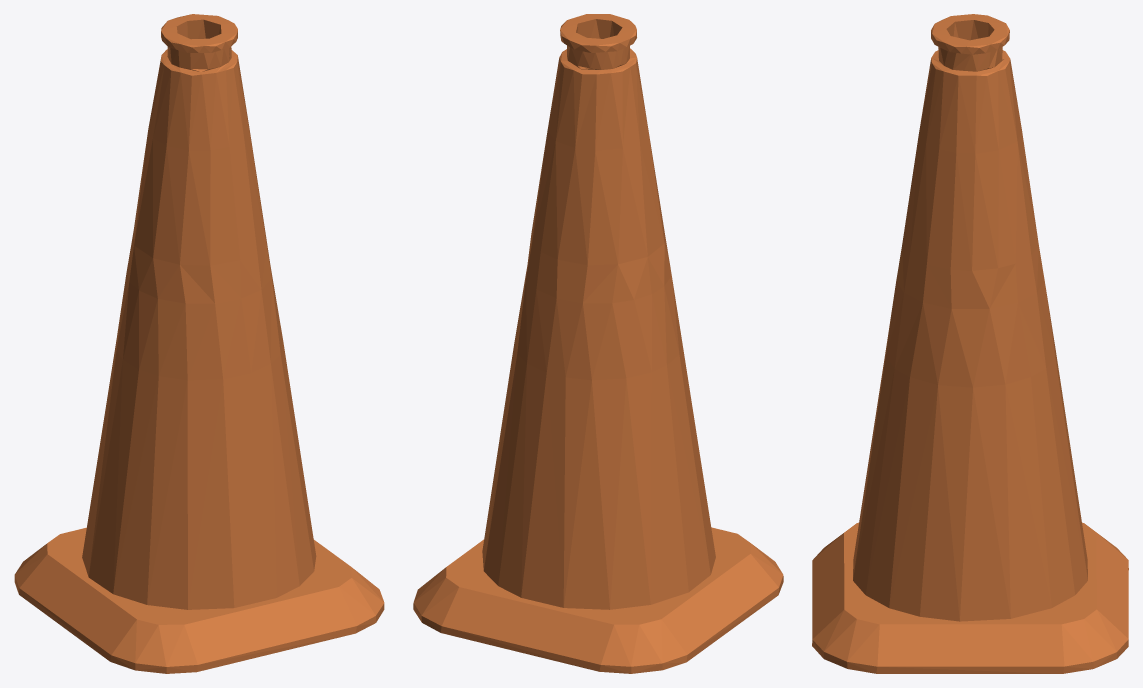
Rendered from cone_big.dae.
3 views of the same model, side by side, from view 1: azimuth 30°, elevation 25°; view 2: azimuth 150°, elevation 25°; view 3: azimuth 270°, elevation 25° (orthographic).
Parts seen in each view (by area): view 1: _8_Inch; view 2: _8_Inch; view 3: _8_Inch.
Part boxes in pixels (<box>): _8_Inch: <box>14,14,384,673</box>; _8_Inch: <box>413,14,783,673</box>; _8_Inch: <box>812,14,1128,673</box>.
Size of the model in its own units: 0.2613 by 0.2613 by 0.5255.
